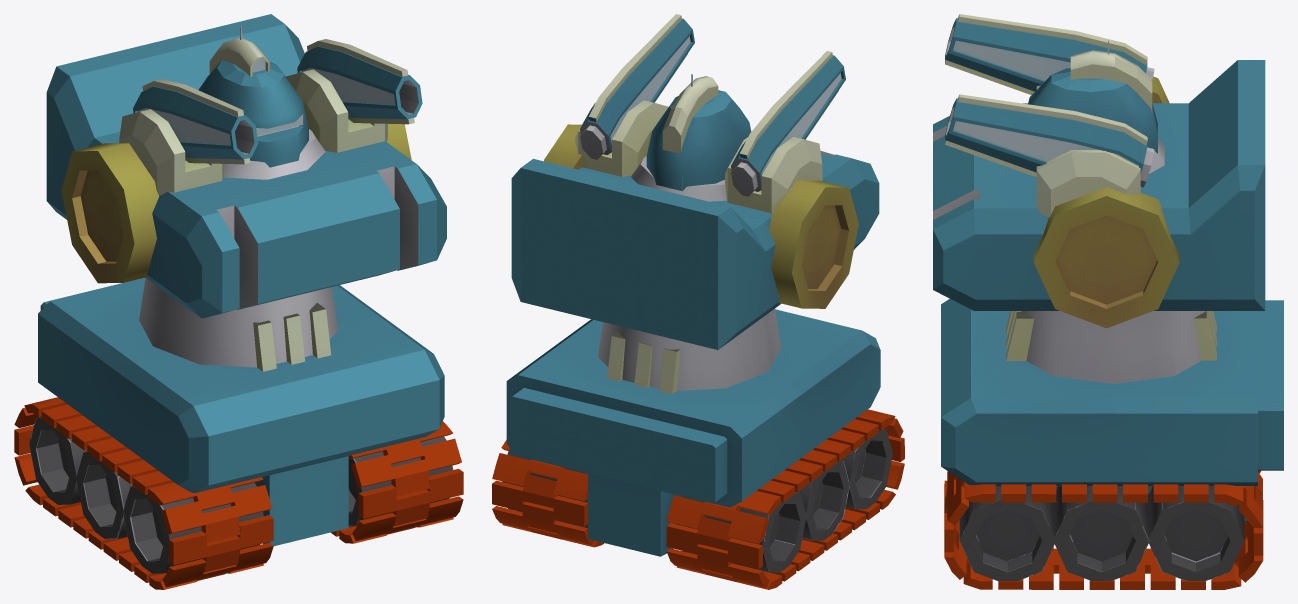
File: player_idle2.obj
3 renders of one model, left to right at view 1: azimuth 30°, elevation 25°; view 2: azimuth 150°, elevation 25°; view 3: azimuth 270°, elevation 25°, orthographic. The views are drawn at different scales.
Parts seen in each view (by area): view 1: Object004, Box038, Object012, Object011, Box042; view 2: Object004, Box038, Object012, Object011, Box042; view 3: Object004, Object011, Object012, Box042.
Boxes of the visible parts, x1,y1,x2,y2 form: Object004: [38, 14, 446, 546]; Box038: [14, 397, 273, 589]; Object012: [133, 39, 422, 164]; Object011: [29, 416, 453, 573]; Box042: [331, 421, 463, 543]; Object004: [506, 76, 880, 556]; Box038: [666, 409, 904, 589]; Object012: [580, 14, 845, 196]; Object011: [502, 429, 892, 572]; Box042: [492, 440, 604, 547]; Object004: [933, 50, 1283, 522]; Object011: [959, 486, 1244, 580]; Object012: [945, 14, 1154, 187]; Box042: [944, 471, 1263, 589].
Size of the model in its own units: 110 by 174 by 115.
Materials: 3 (1 with a texture image).
